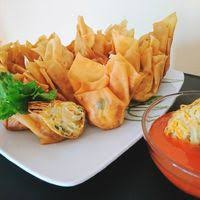Pangsit goreng: (67, 54, 142, 132), (123, 33, 168, 105), (25, 99, 88, 142), (67, 92, 71, 94)
